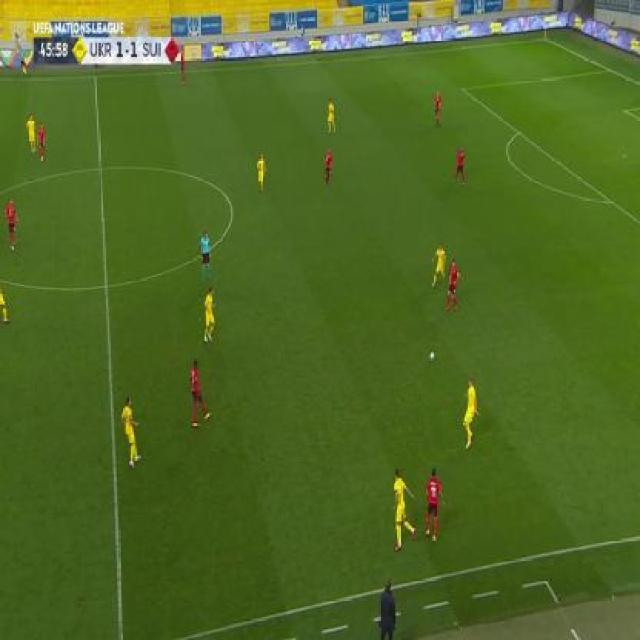ball: (429, 350, 435, 361)
player: (390, 468, 416, 550), (372, 578, 400, 640), (424, 466, 446, 542), (187, 358, 210, 427), (119, 396, 141, 467), (462, 375, 481, 451), (444, 258, 461, 314), (201, 288, 217, 344), (429, 242, 448, 288), (4, 198, 20, 251), (199, 229, 213, 282), (452, 145, 468, 187), (26, 113, 37, 155), (323, 147, 334, 187), (17, 44, 30, 77), (326, 98, 337, 135), (0, 280, 9, 322), (257, 152, 266, 194), (37, 121, 46, 161), (434, 89, 443, 128), (179, 51, 187, 87)
